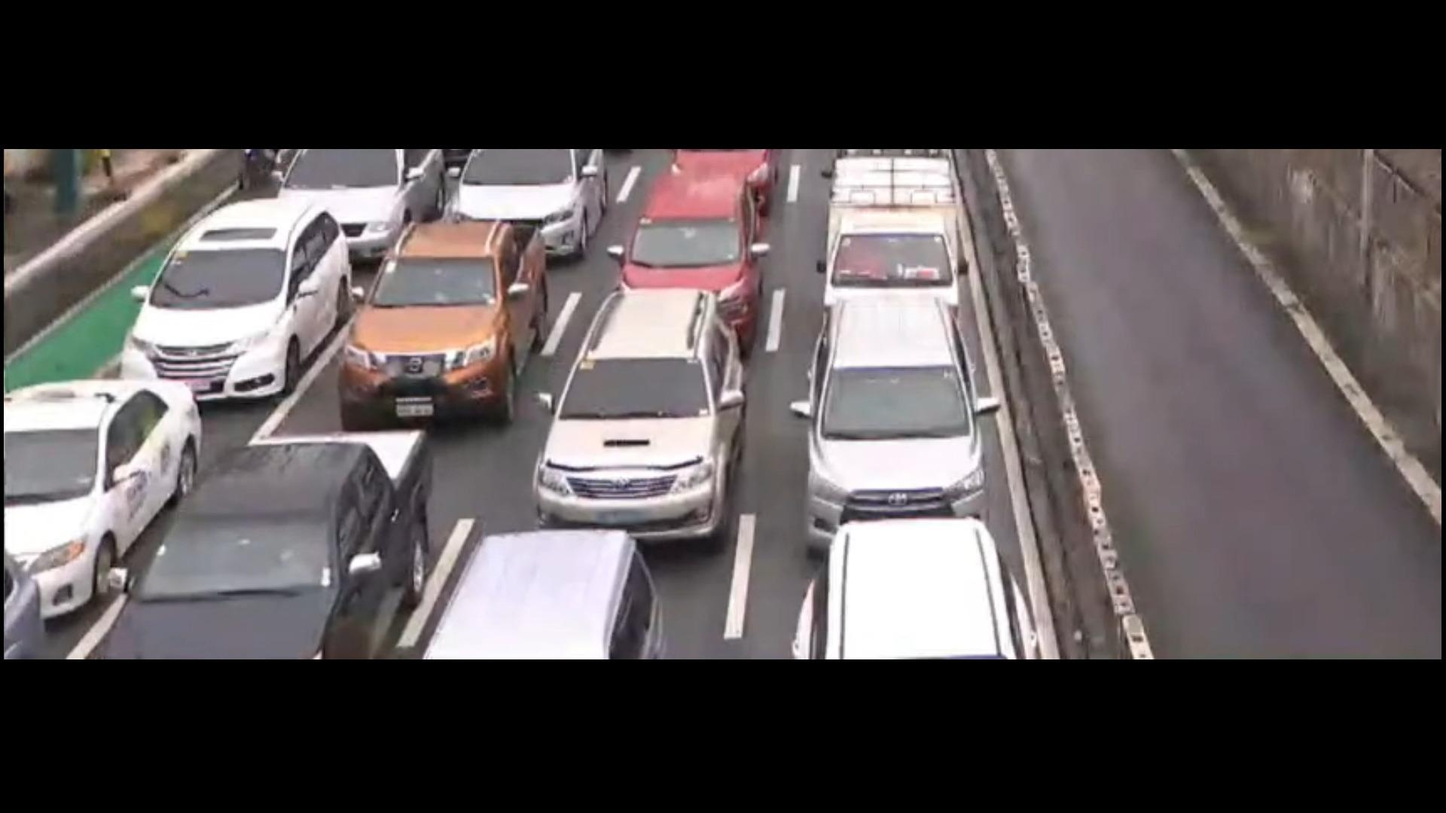Pickup: (98, 428, 450, 665), (327, 200, 563, 420)
SUV: (107, 196, 352, 426), (519, 305, 752, 546), (795, 277, 979, 549), (782, 505, 1059, 663), (410, 527, 680, 660), (598, 172, 770, 346), (449, 153, 620, 257)
Sedan: (0, 377, 207, 599)
Truck: (813, 147, 978, 314)
